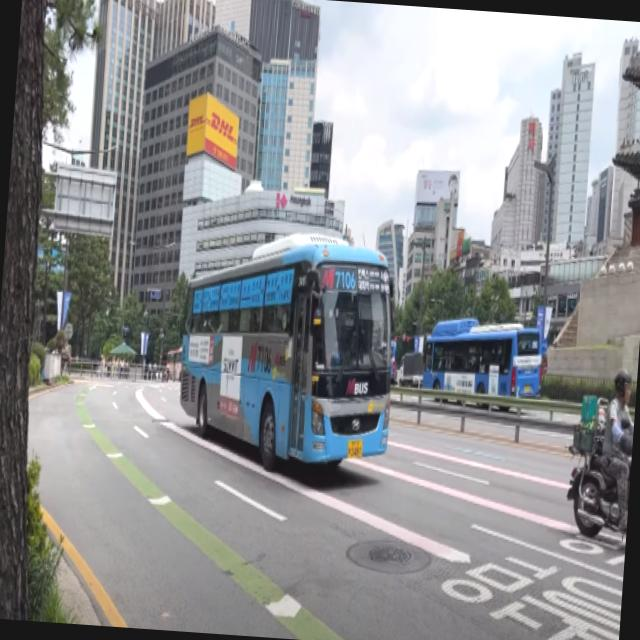bus-number: (333, 268, 357, 291)
